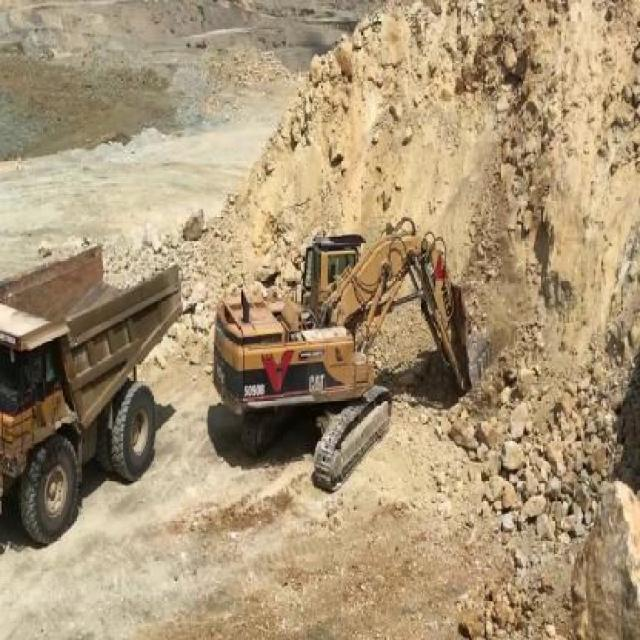Dump Truck: (0, 232, 185, 548)
Excavator: (204, 212, 479, 496)
